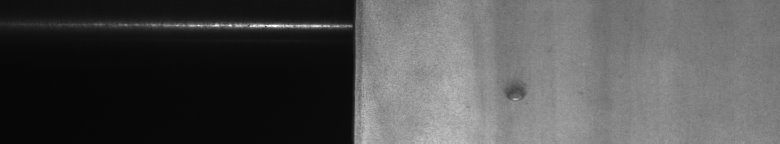fi: (504, 84, 528, 104)
